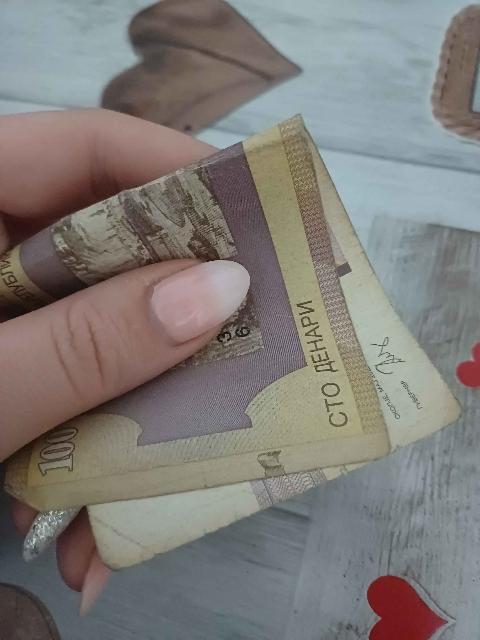note: (7, 117, 458, 510)
